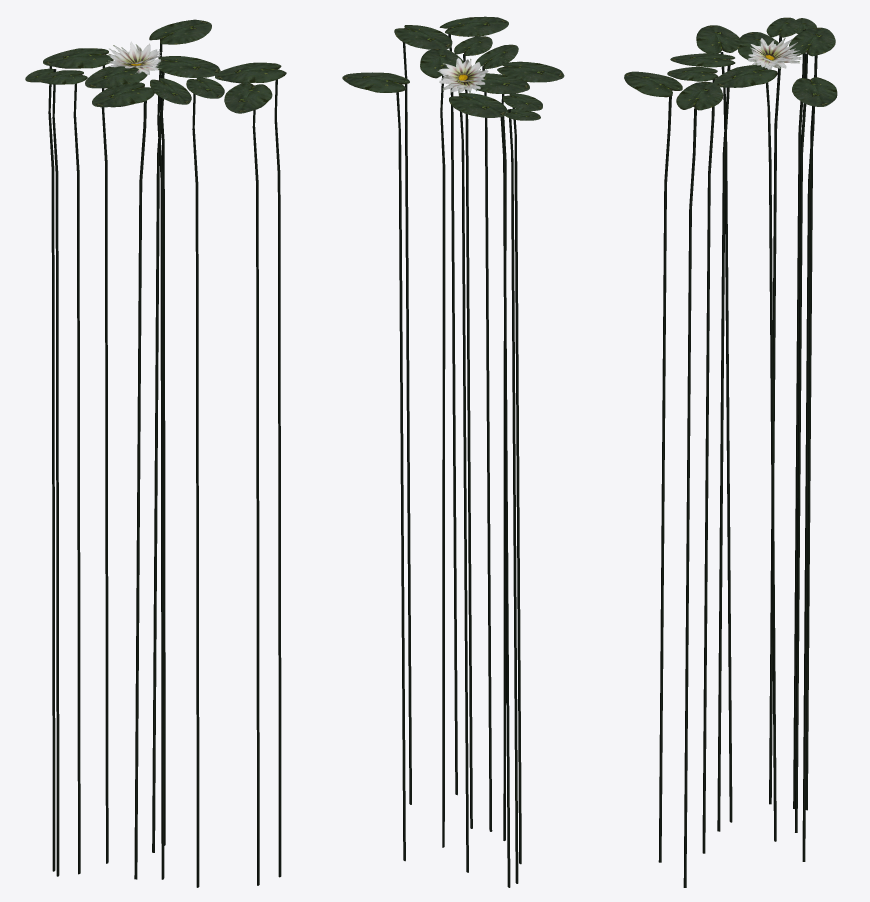
The model's file is flower_waterlilly_01.DAE.
3 views of the same model, side by side, from view 1: azimuth 30°, elevation 25°; view 2: azimuth 150°, elevation 25°; view 3: azimuth 270°, elevation 25° (orthographic). The views are drawn at different scales.
Parts seen in each view (by area): view 1: Plane001; view 2: Plane001; view 3: Plane001.
Boxes of the visible parts, x1=… form: Plane001: x1=25, y1=19, x2=286, y2=887; Plane001: x1=342, y1=16, x2=564, y2=887; Plane001: x1=624, y1=17, x2=837, y2=887.
Size of the model in its own units: 2.79 by 9.82 by 2.77.
